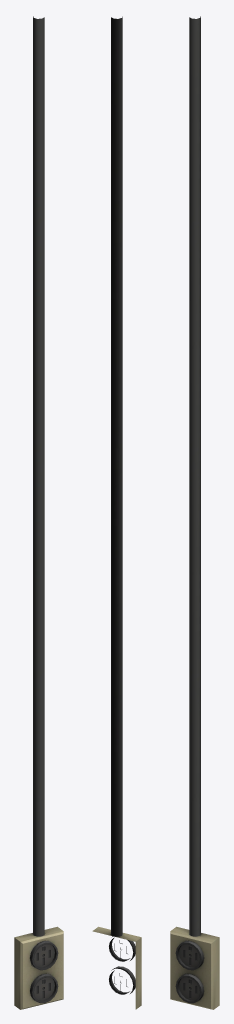
3 views of the same model, side by side, from view 1: azimuth 30°, elevation 25°; view 2: azimuth 150°, elevation 25°; view 3: azimuth 330°, elevation 25° (orthographic).
Parts seen in each view (by area): view 1: body0_model0_lod0_mesh0; view 2: body0_model0_lod0_mesh0; view 3: body0_model0_lod0_mesh0.
Boxes of the visible parts, x1,y1,x2,y2 form: body0_model0_lod0_mesh0: (14, 16, 63, 1009); body0_model0_lod0_mesh0: (92, 16, 141, 1009); body0_model0_lod0_mesh0: (170, 16, 219, 1009).
Bounding box in the file's own units: 13.99 × 304 × 5.23.
Materials: 1 (1 with a texture image).
